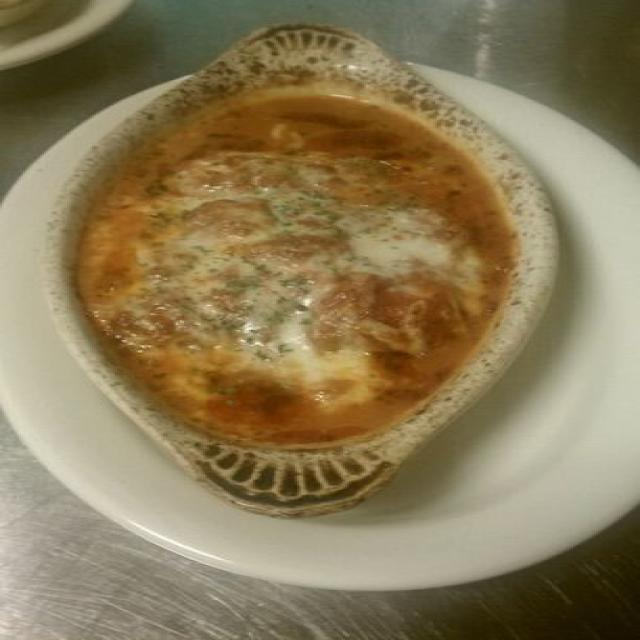Lasagna: (134, 130, 448, 429)
